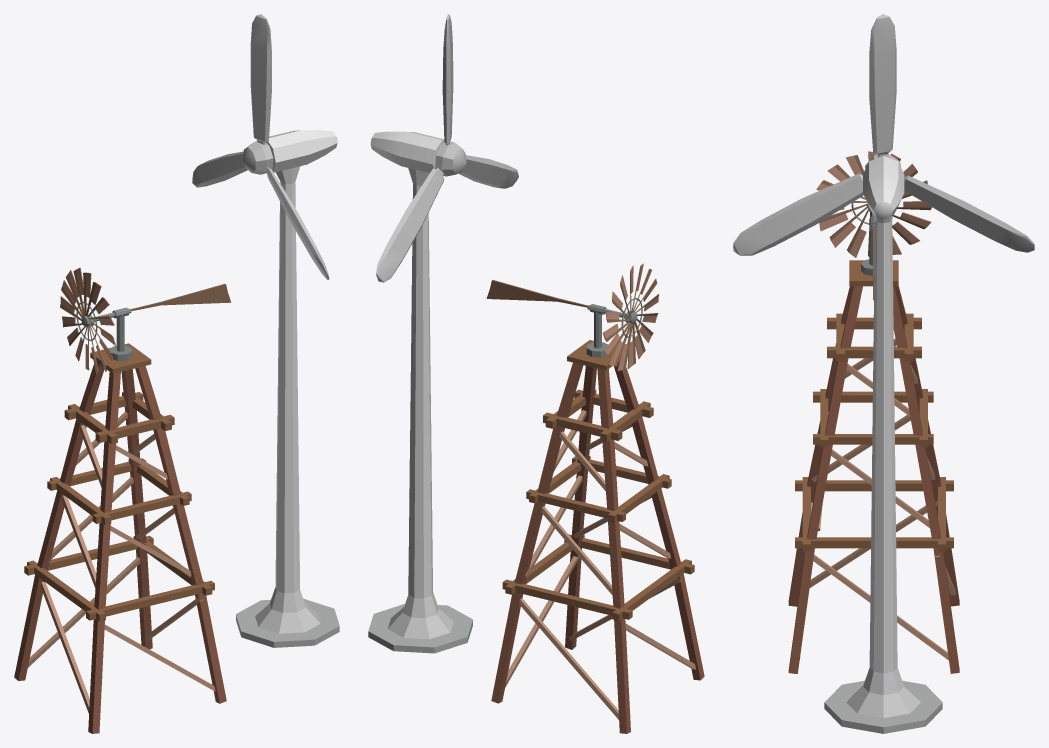
File: WindMills.fbx
3 views of the same model, side by side, from view 1: azimuth 30°, elevation 25°; view 2: azimuth 150°, elevation 25°; view 3: azimuth 270°, elevation 25° (orthographic). The views are drawn at different scales.
Visible parts, largest first — view 1: WindMill, Widmill2, Blade (×2), Hub; view 2: WindMill, Widmill2, Blade (×2), Hub; view 3: WindMill, Widmill2, Blade (×2), Hub.
Boxes of the visible parts, x1=… form: WindMill: x1=14, y1=343, x2=226, y2=733; Widmill2: x1=236, y1=130, x2=339, y2=647; Blade (×2): x1=60, y1=14, x2=329, y2=374; Hub: x1=93, y1=284, x2=231, y2=360; WindMill: x1=491, y1=340, x2=704, y2=733; Widmill2: x1=368, y1=131, x2=472, y2=653; Blade (×2): x1=376, y1=14, x2=659, y2=370; Hub: x1=486, y1=280, x2=625, y2=357; WindMill: x1=788, y1=260, x2=959, y2=673; Widmill2: x1=824, y1=156, x2=942, y2=733; Blade (×2): x1=733, y1=14, x2=1034, y2=257; Hub: x1=861, y1=211, x2=874, y2=300.
Size of the model in its own units: 0.0566 by 0.1198 by 0.0466.
Materials: 1 (1 with a texture image).
